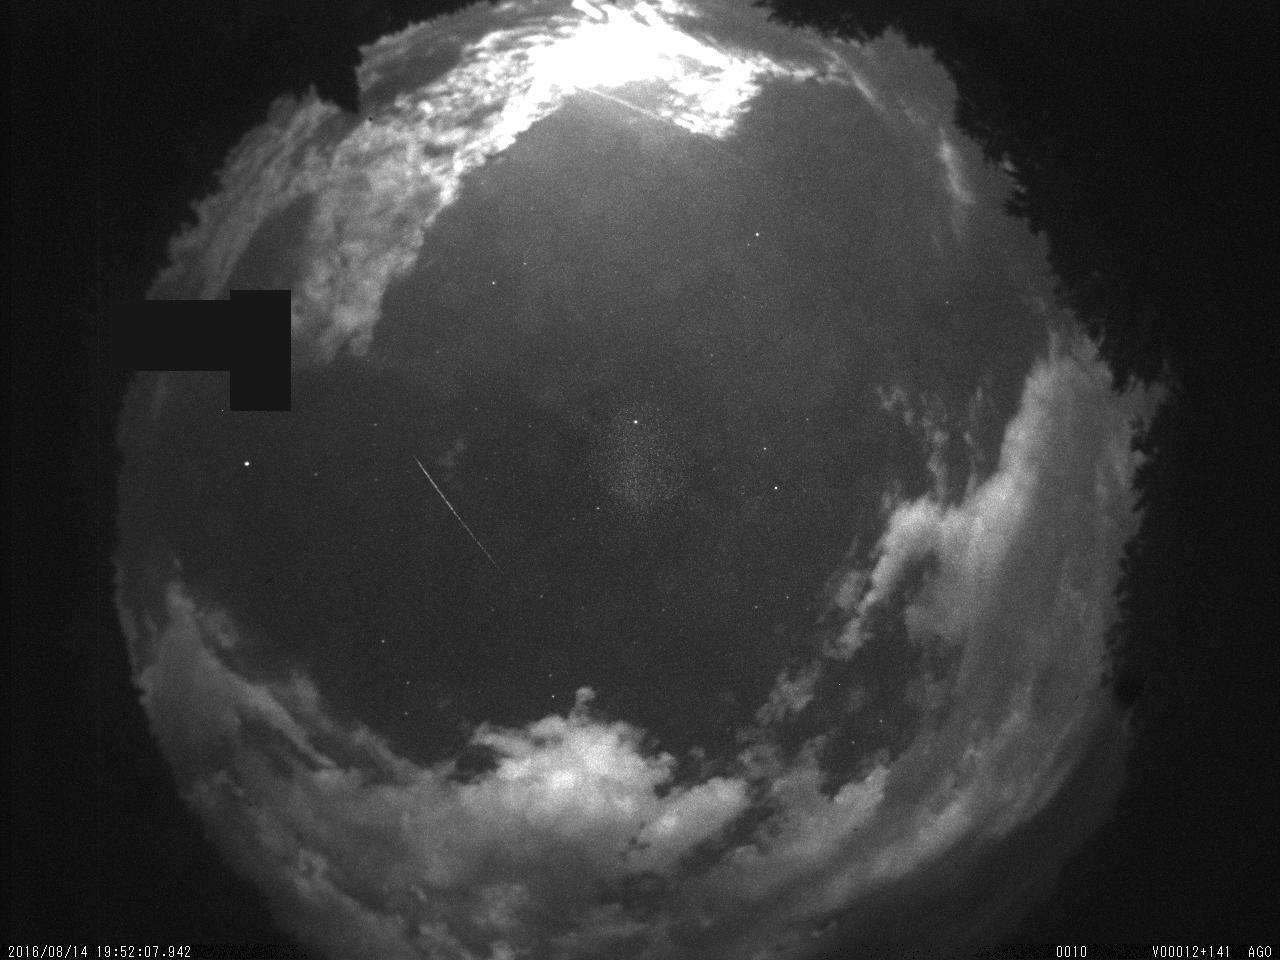meteor: (405, 450, 514, 578)
